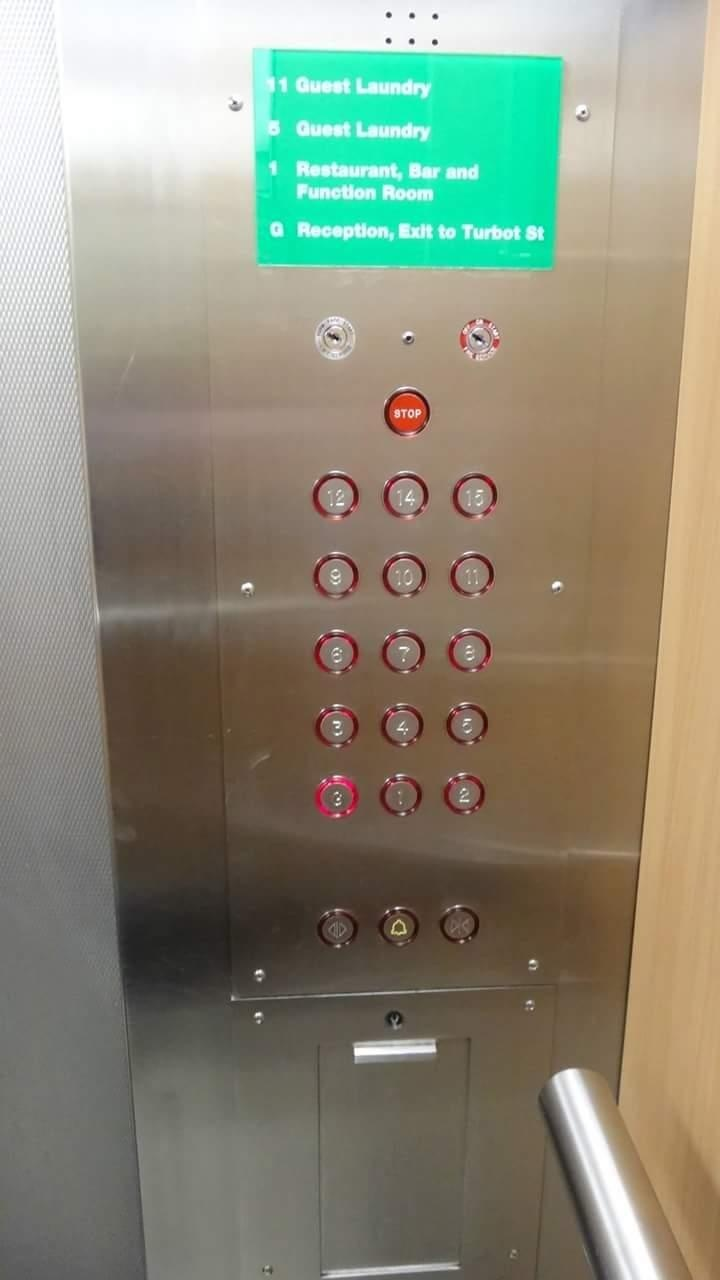1: (378, 774, 424, 821)
10: (380, 550, 428, 599)
11: (449, 549, 496, 601)
12: (309, 468, 362, 522)
14: (379, 468, 435, 521)
15: (449, 469, 504, 521)
2: (441, 772, 490, 817)
3: (314, 703, 359, 749)
4: (380, 703, 426, 748)
5: (445, 702, 489, 745)
6: (312, 628, 360, 677)
7: (380, 625, 428, 677)
8: (446, 629, 495, 674)
9: (310, 550, 360, 600)
G: (310, 776, 361, 820)
alarm: (378, 904, 421, 950)
close: (436, 902, 482, 947)
keyhole: (457, 316, 503, 364), (312, 316, 356, 363)
open: (313, 904, 361, 952)
text_stop: (383, 386, 437, 439)
